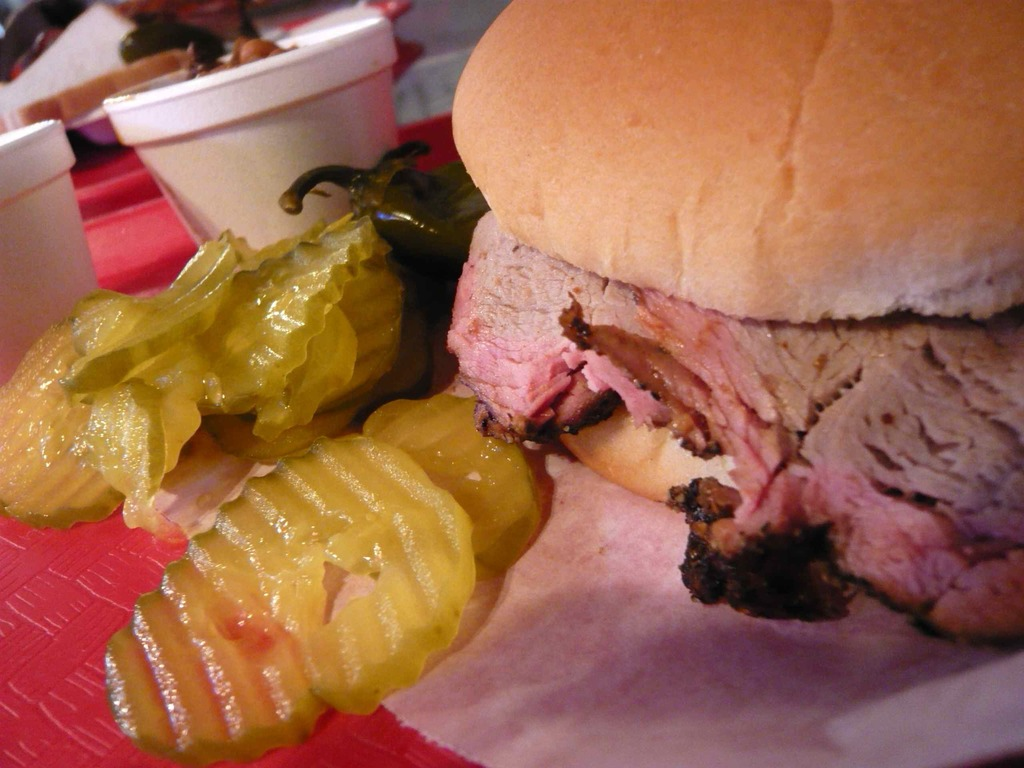hamburger: (438, 0, 1023, 648)
